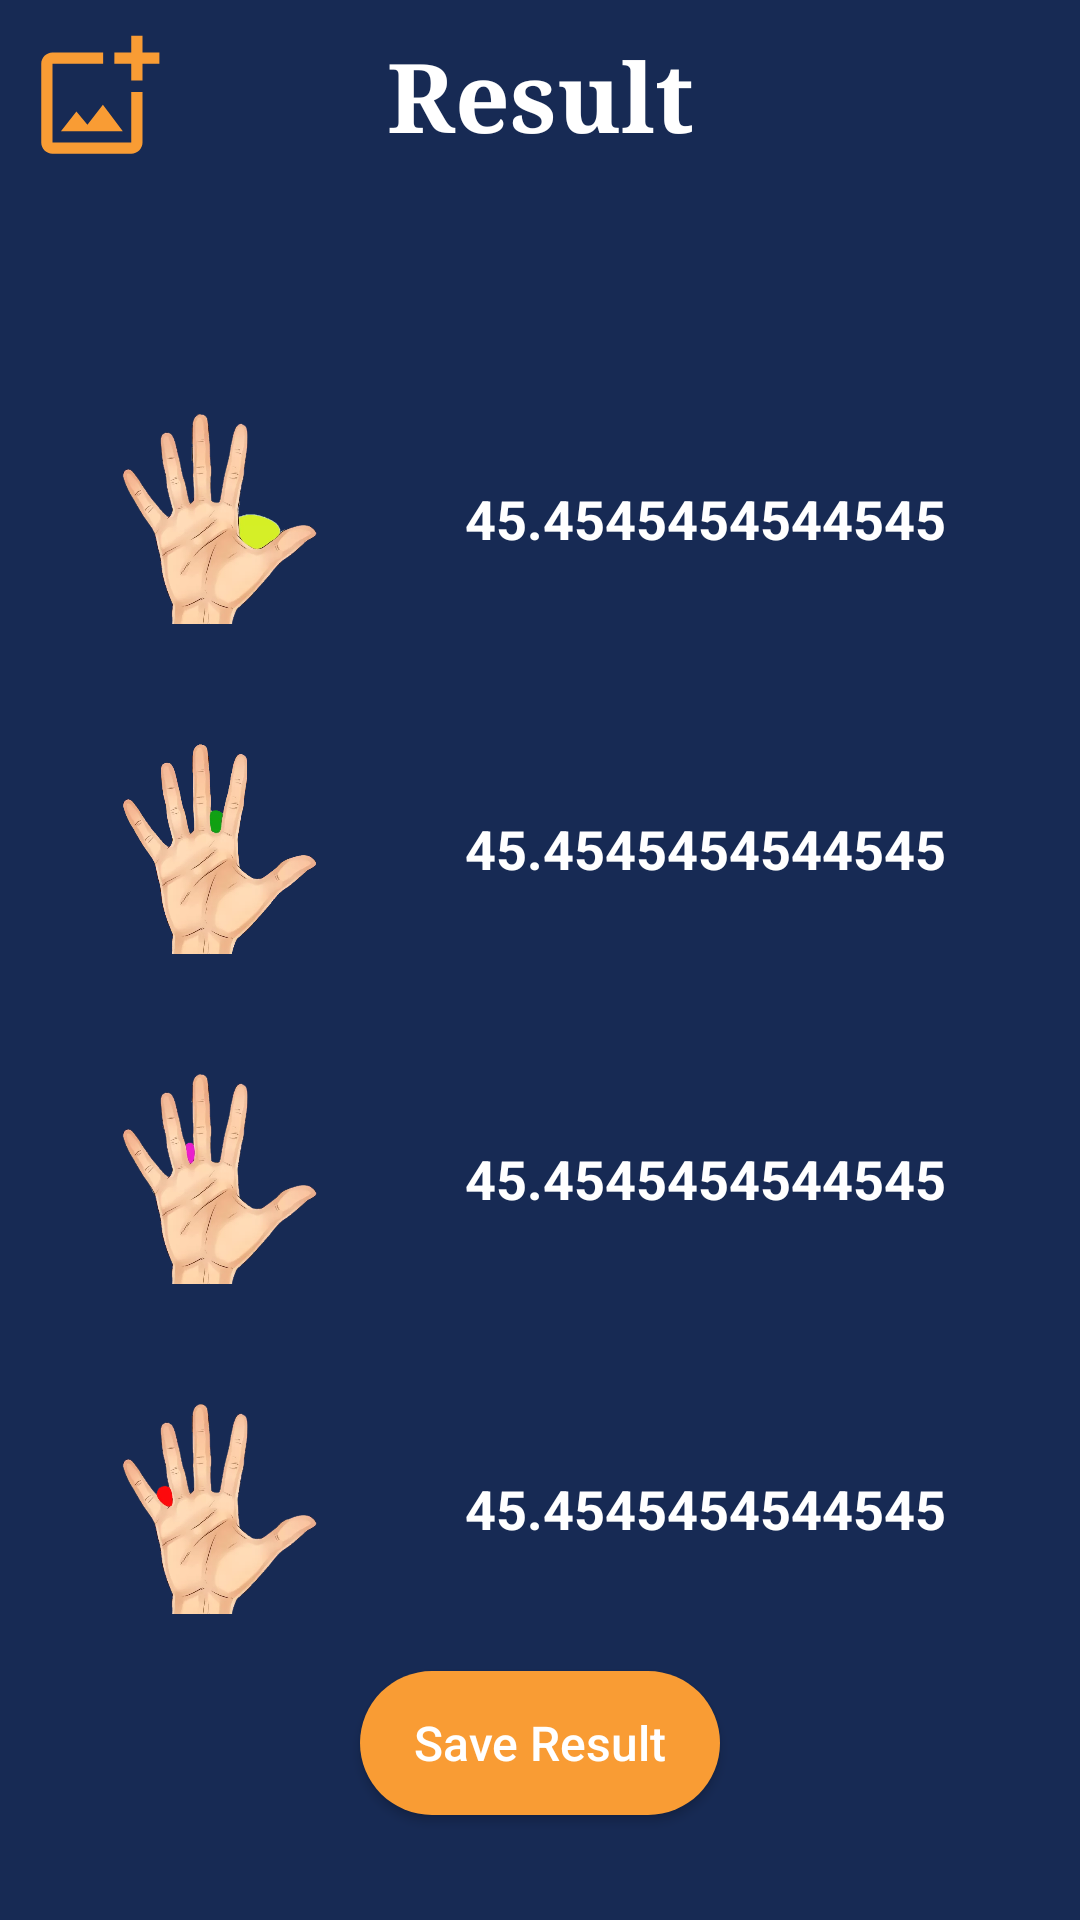

Where icons sit on this 1080 x 1920 app screen, as [x1=x1, y1=y1, x2=x2, y2=y2]:
add photo alternate: [x1=41, y1=35, x2=160, y2=154]
